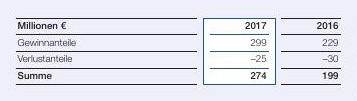table: (0, 0, 357, 101)
